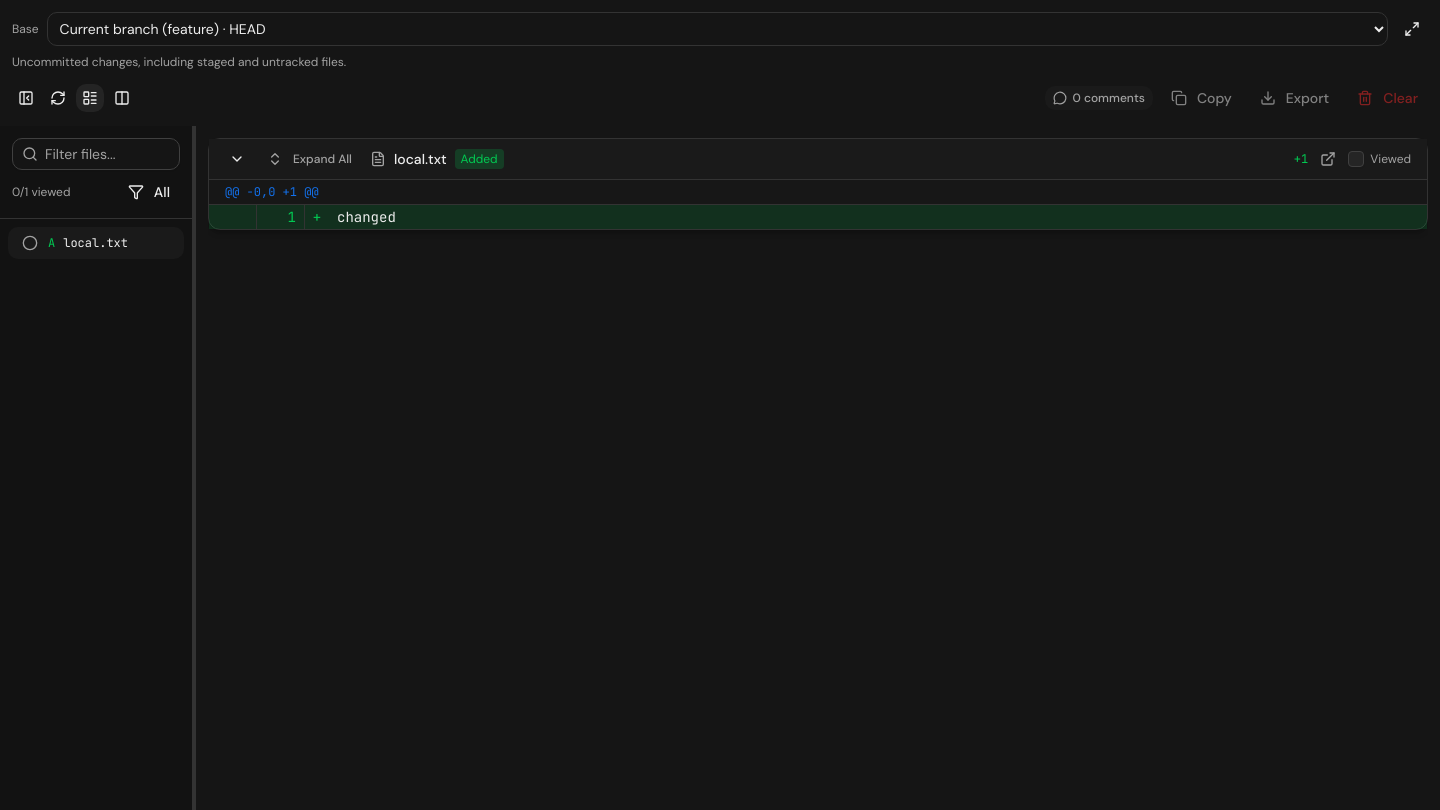
it: ReviewPanel › refreshes changed content even when line counts match and clears a clean diff
Expected: the text "changed" is shown, [337,208,396,226]
Click the button named "Refresh review". click: (58, 98)
box: [44,84,72,112]
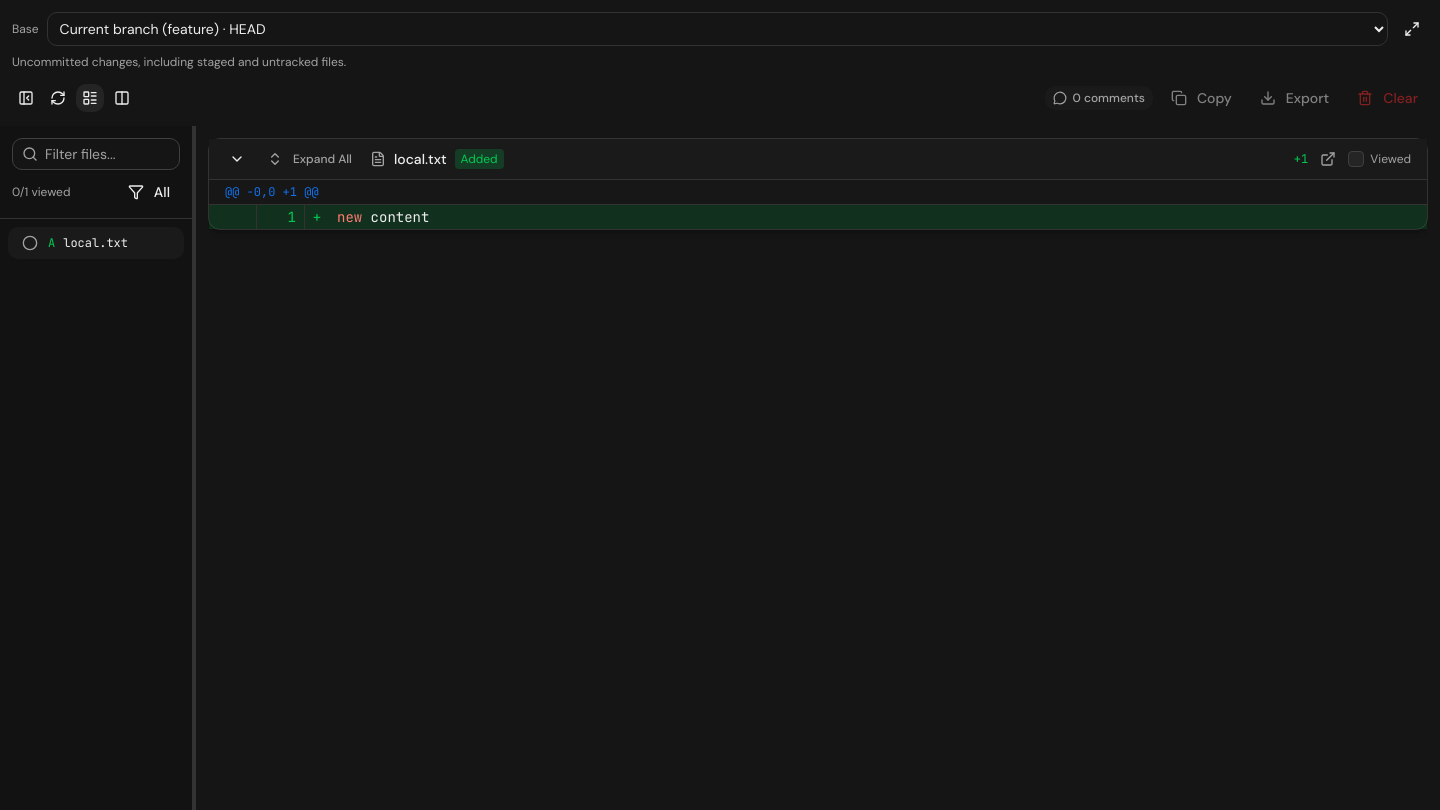
Result: the element with test id "diff-line-content" reads "new content" at [337,208,429,226]
Result: the text "changed" is gone
Click the button named "Refresh review". click: (58, 98)
box: [44,84,72,112]
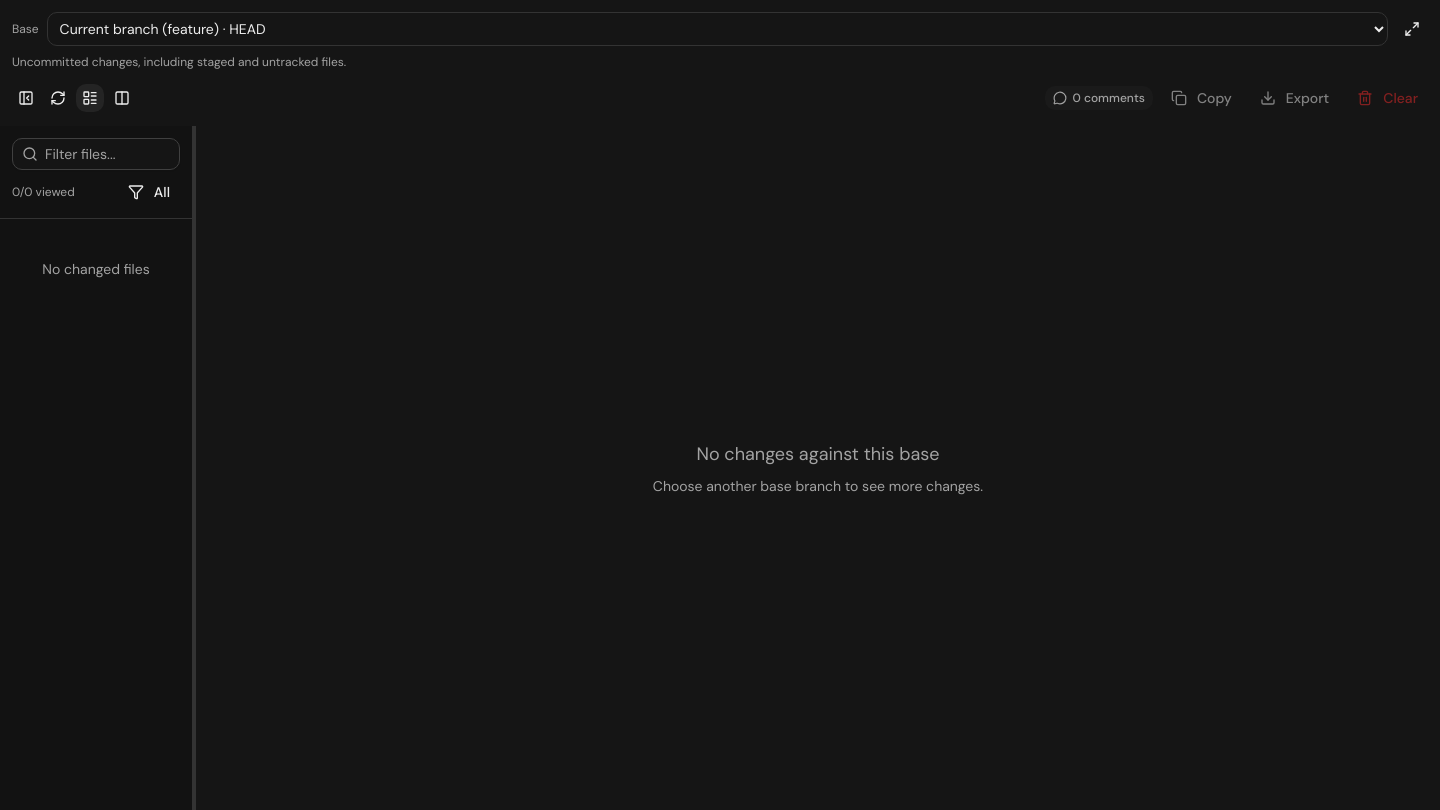
Result: the text "No changes against this base" is shown at [696,442,940,466]
